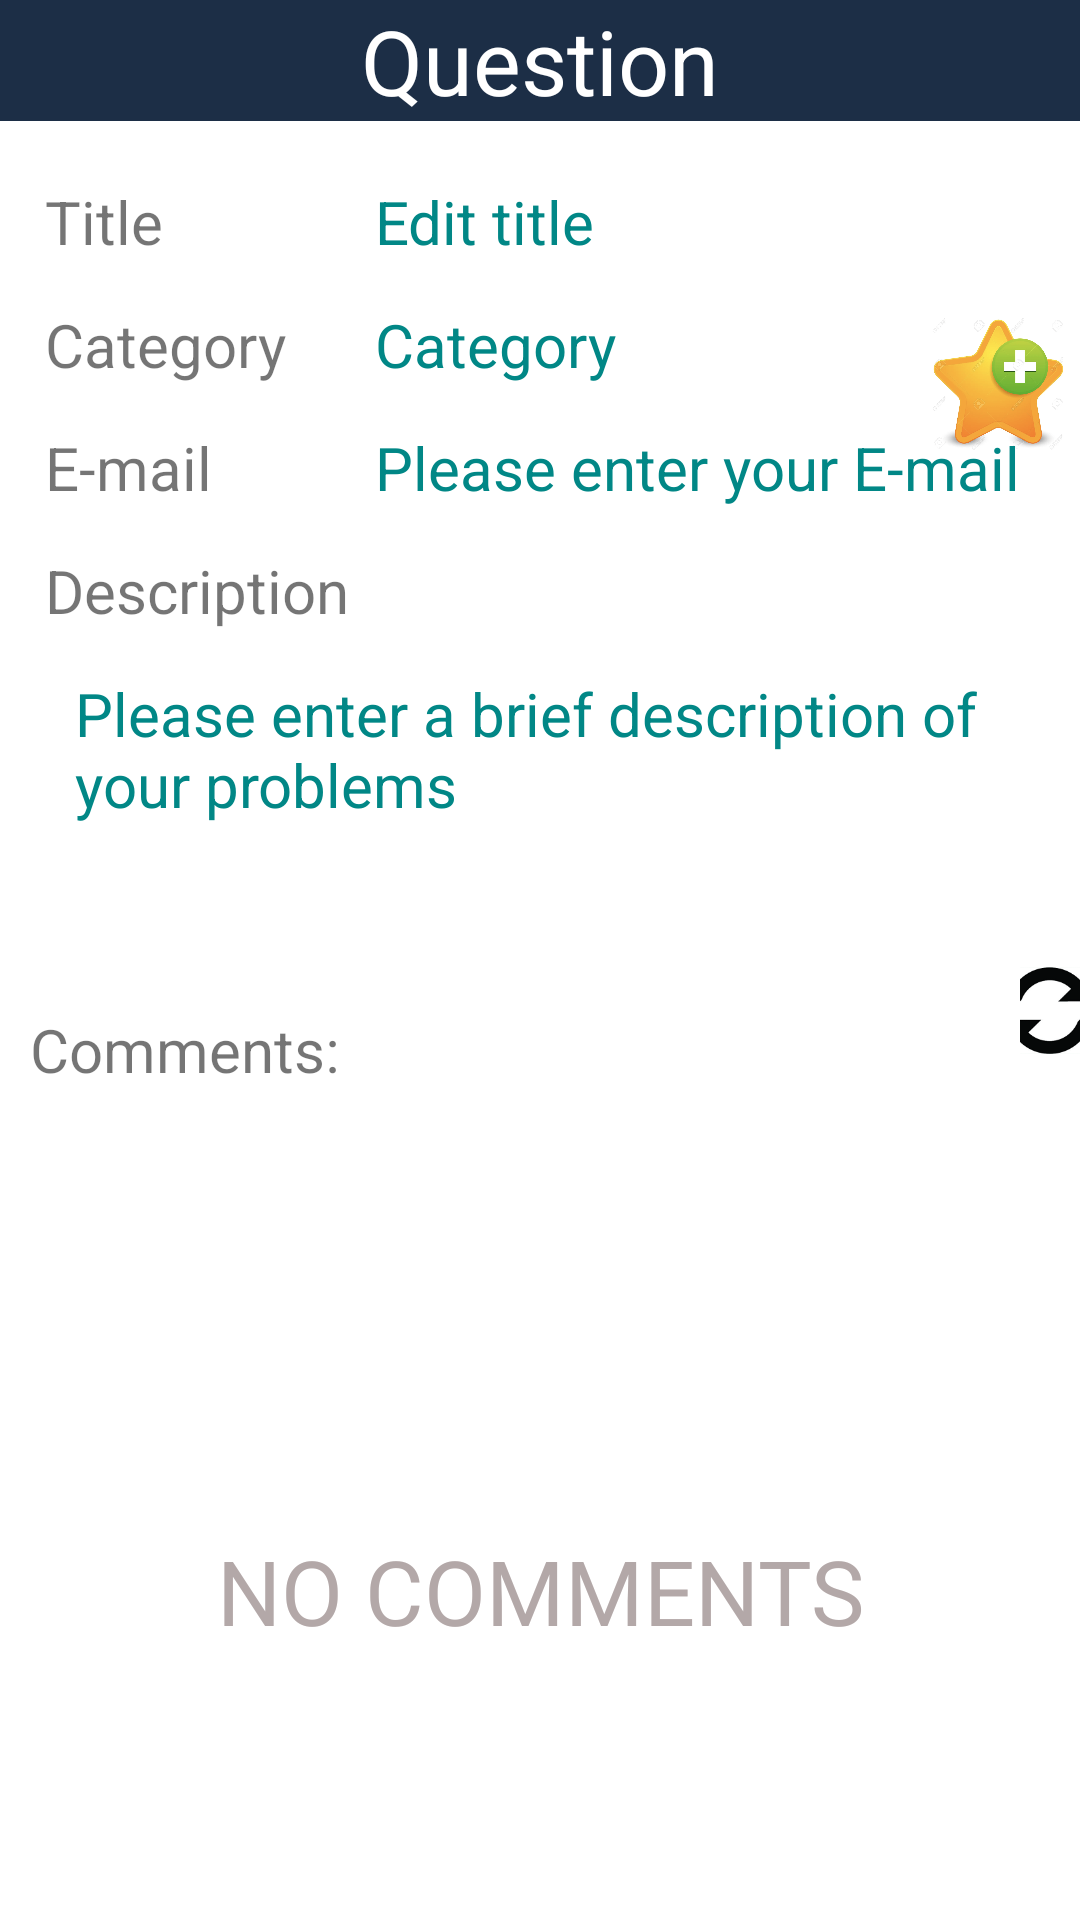

Point at icon controls on the screen. Image size 1080 x 1920, points as [x,y].
collection: [998,384]
refresh: [1050,1010]
